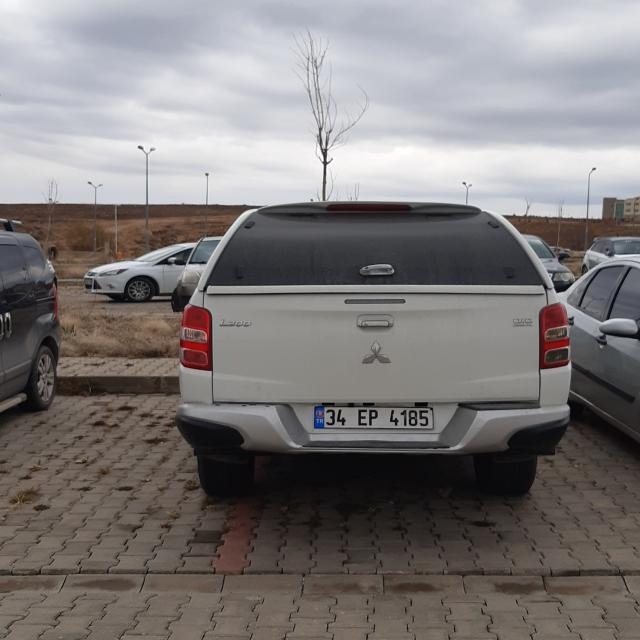license_plate: (315, 407, 432, 429)
